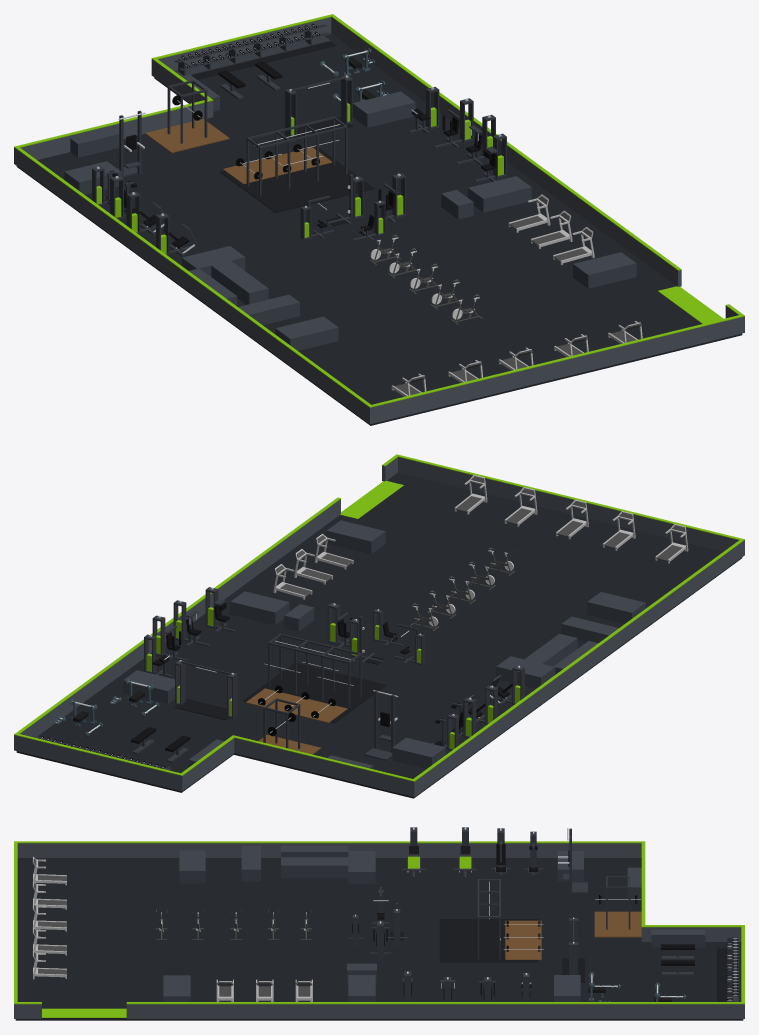
The model's file is gym.glb.
3 renders of one model, top to bottom at view 1: azimuth 30°, elevation 25°; view 2: azimuth 150°, elevation 25°; view 3: azimuth 270°, elevation 25°, orthographic. The views are drawn at different scales.
Parts seen in each view (by area): view 1: floor, walls, tables, rig, dbs, rack, cable, tower, entrance, pecdeck, legpress2, abs (+6 smaller); view 2: floor, walls, tables, rig, cable, rack, tower, entrance, shoulder, pecdeck, abs, pecfly (+10 smaller); view 3: floor, walls, tables, rig, rack, dbs, entrance, cable, legpress1, legpress2, tower, squatm (+13 smaller).
Boxes of the visible parts, x1,y1,x2,y2 form: floor: (16,33,742,425); walls: (14,14,744,424); tables: (64,74,636,350); rig: (220,116,374,212); dbs: (174,23,336,79); rack: (145,80,229,153); cable: (285,75,353,140); tower: (117,110,145,177); entrance: (658,286,723,323); pecdeck: (434,98,473,148); legpress2: (156,213,196,256); abs: (474,133,506,182); floor: (16,472,742,798); walls: (14,454,744,796); tables: (123,520,645,769); rig: (243,633,386,723); cable: (174,660,238,720); rack: (258,698,321,754); tower: (364,690,398,760); entrance: (340,480,403,518); shoulder: (173,600,210,646); pecdeck: (152,615,189,661); abs: (205,587,235,632); pecfly: (327,603,352,648); floor: (15,858,743,1020); walls: (14,841,744,1018); tables: (163,845,705,1001); rig: (439,879,543,962); rack: (594,876,641,937); dbs: (717,936,738,1001); entrance: (42,1008,126,1017); cable: (562,917,584,982); legpress1: (453,827,477,878); legpress2: (402,827,425,878); tower: (558,828,587,893); squatm: (491,828,510,875).
Bounding box in the file's own units: 21.44 × 3.58 × 40.8.
